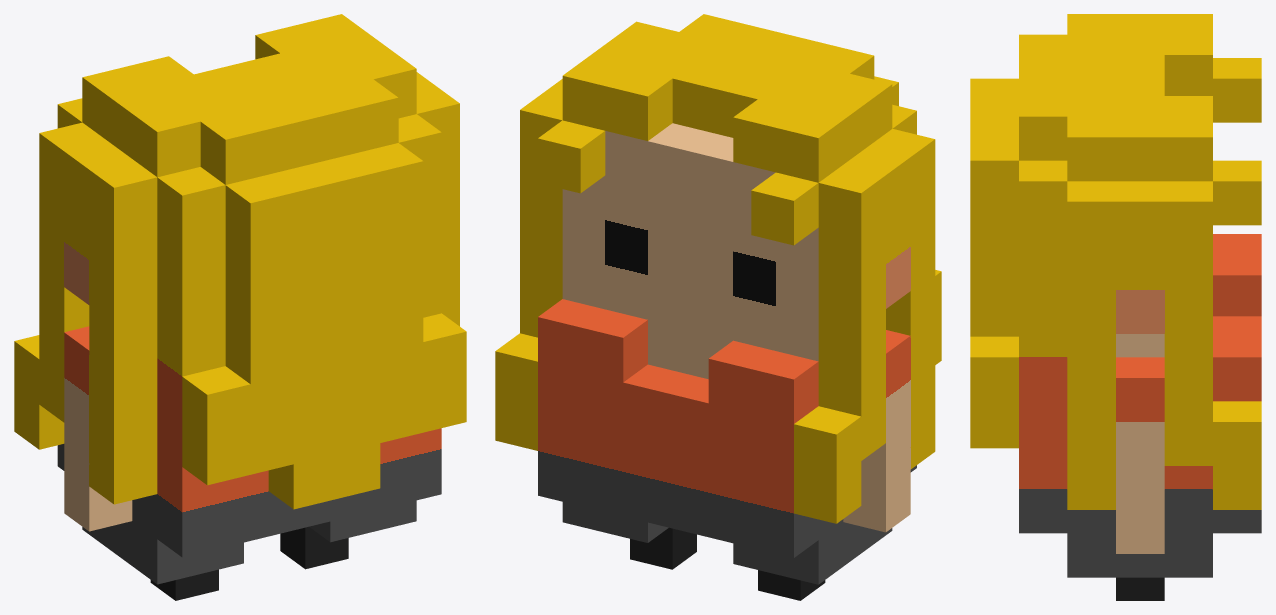
The model's file is chr_lady3.dae.
The picture shows the model from 3 angles, left to right: view 1: azimuth 30°, elevation 25°; view 2: azimuth 150°, elevation 25°; view 3: azimuth 270°, elevation 25°; orthographic projection. The views are drawn at different scales.
Parts seen in each view (by area): view 1: chr_lady3; view 2: chr_lady3; view 3: chr_lady3.
Boxes of the visible parts, left/top/right/bottom form: chr_lady3: left=14, top=14, right=466, bottom=600; chr_lady3: left=495, top=14, right=941, bottom=600; chr_lady3: left=970, top=14, right=1261, bottom=600.
Bounding box in the file's own units: 0.8 × 0.6 × 1.1.
